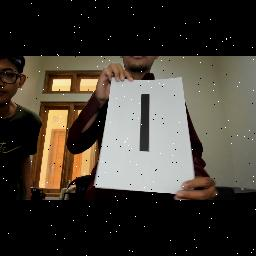i: (132, 92, 164, 160)
